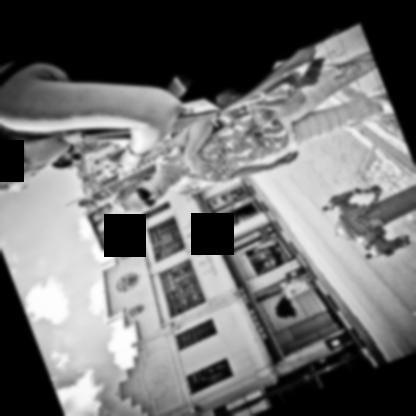handbag: (200, 87, 306, 177), (175, 69, 306, 120), (228, 42, 326, 103)
